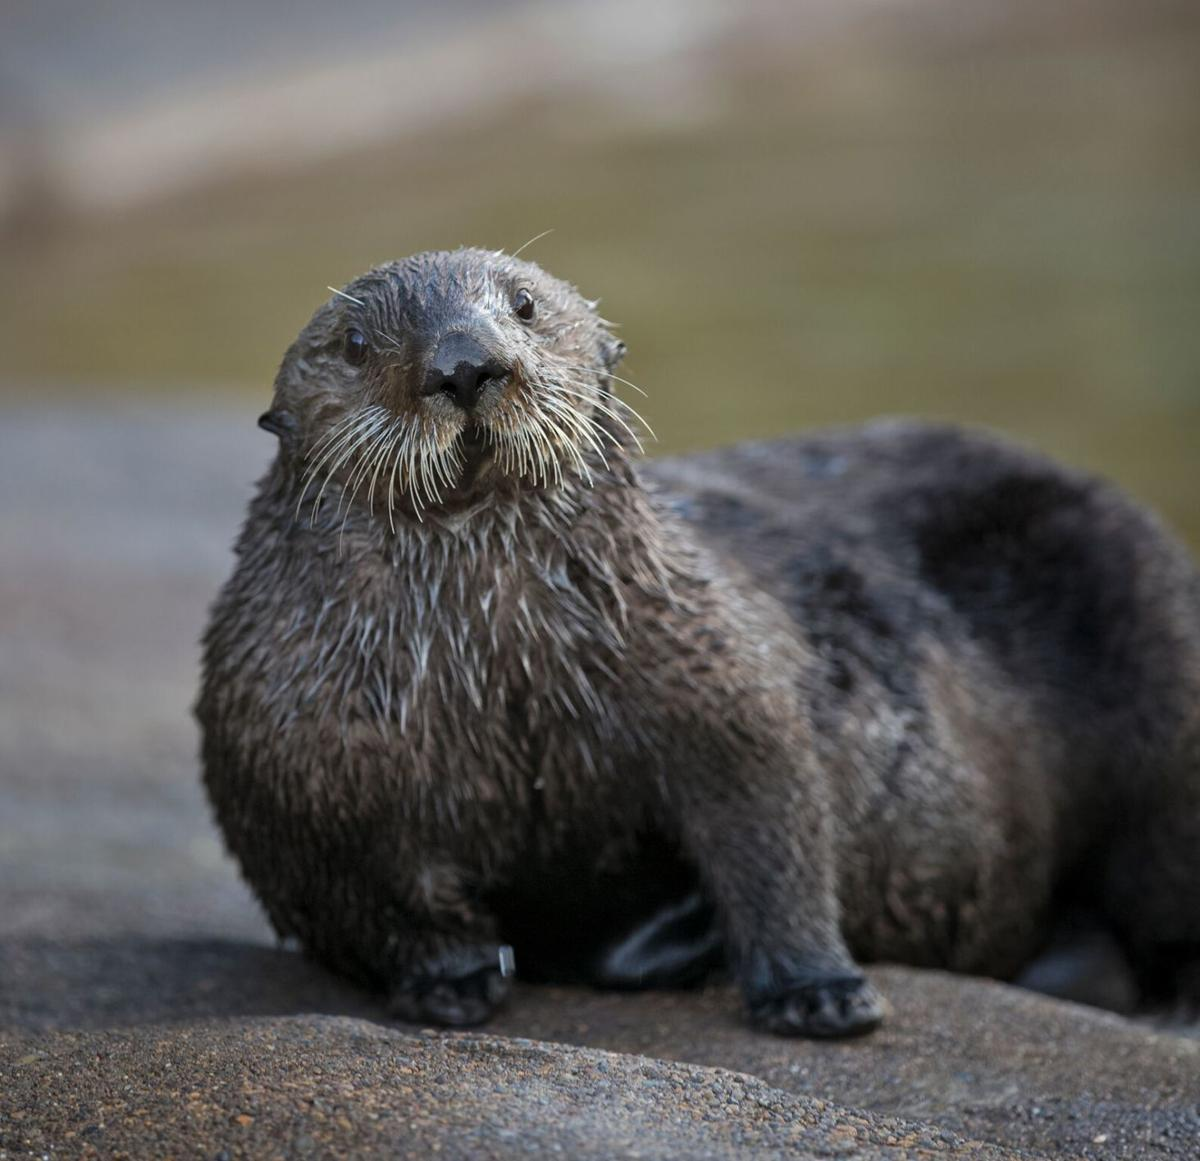otter: (119, 144, 1165, 1094)
